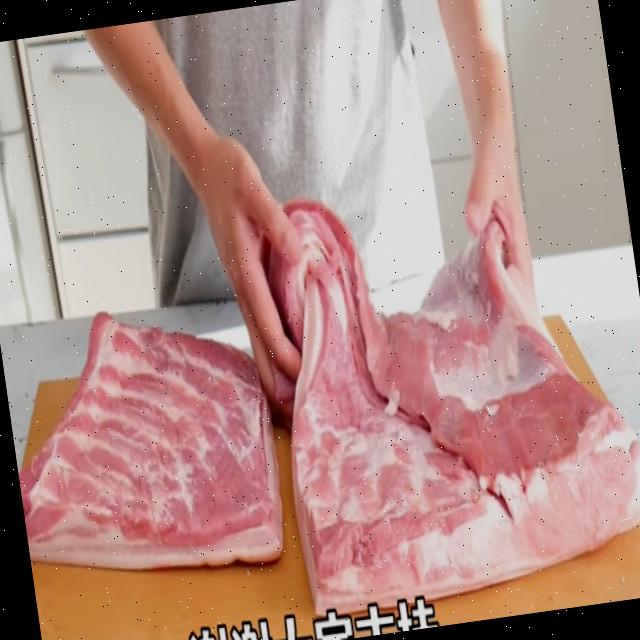meat: (265, 142, 640, 602), (0, 278, 300, 602)
